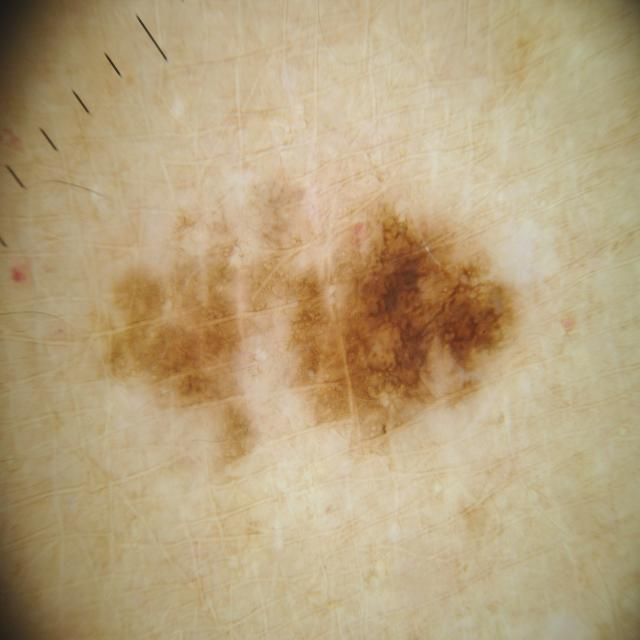Skin-Cancer Melanoma: (36, 16, 603, 625)
